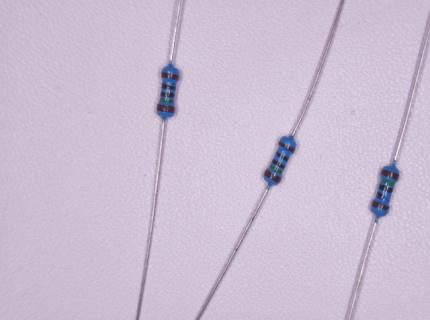Black band: (275, 151, 289, 162), (271, 159, 285, 169), (379, 184, 393, 194), (376, 192, 390, 202), (162, 83, 176, 91), (161, 91, 175, 97)
Brown band: (264, 169, 282, 184), (371, 200, 390, 212), (278, 141, 295, 154), (381, 169, 399, 181), (161, 72, 179, 81), (157, 104, 175, 113)
Green band: (269, 164, 283, 175), (381, 179, 395, 187), (160, 98, 174, 104)
